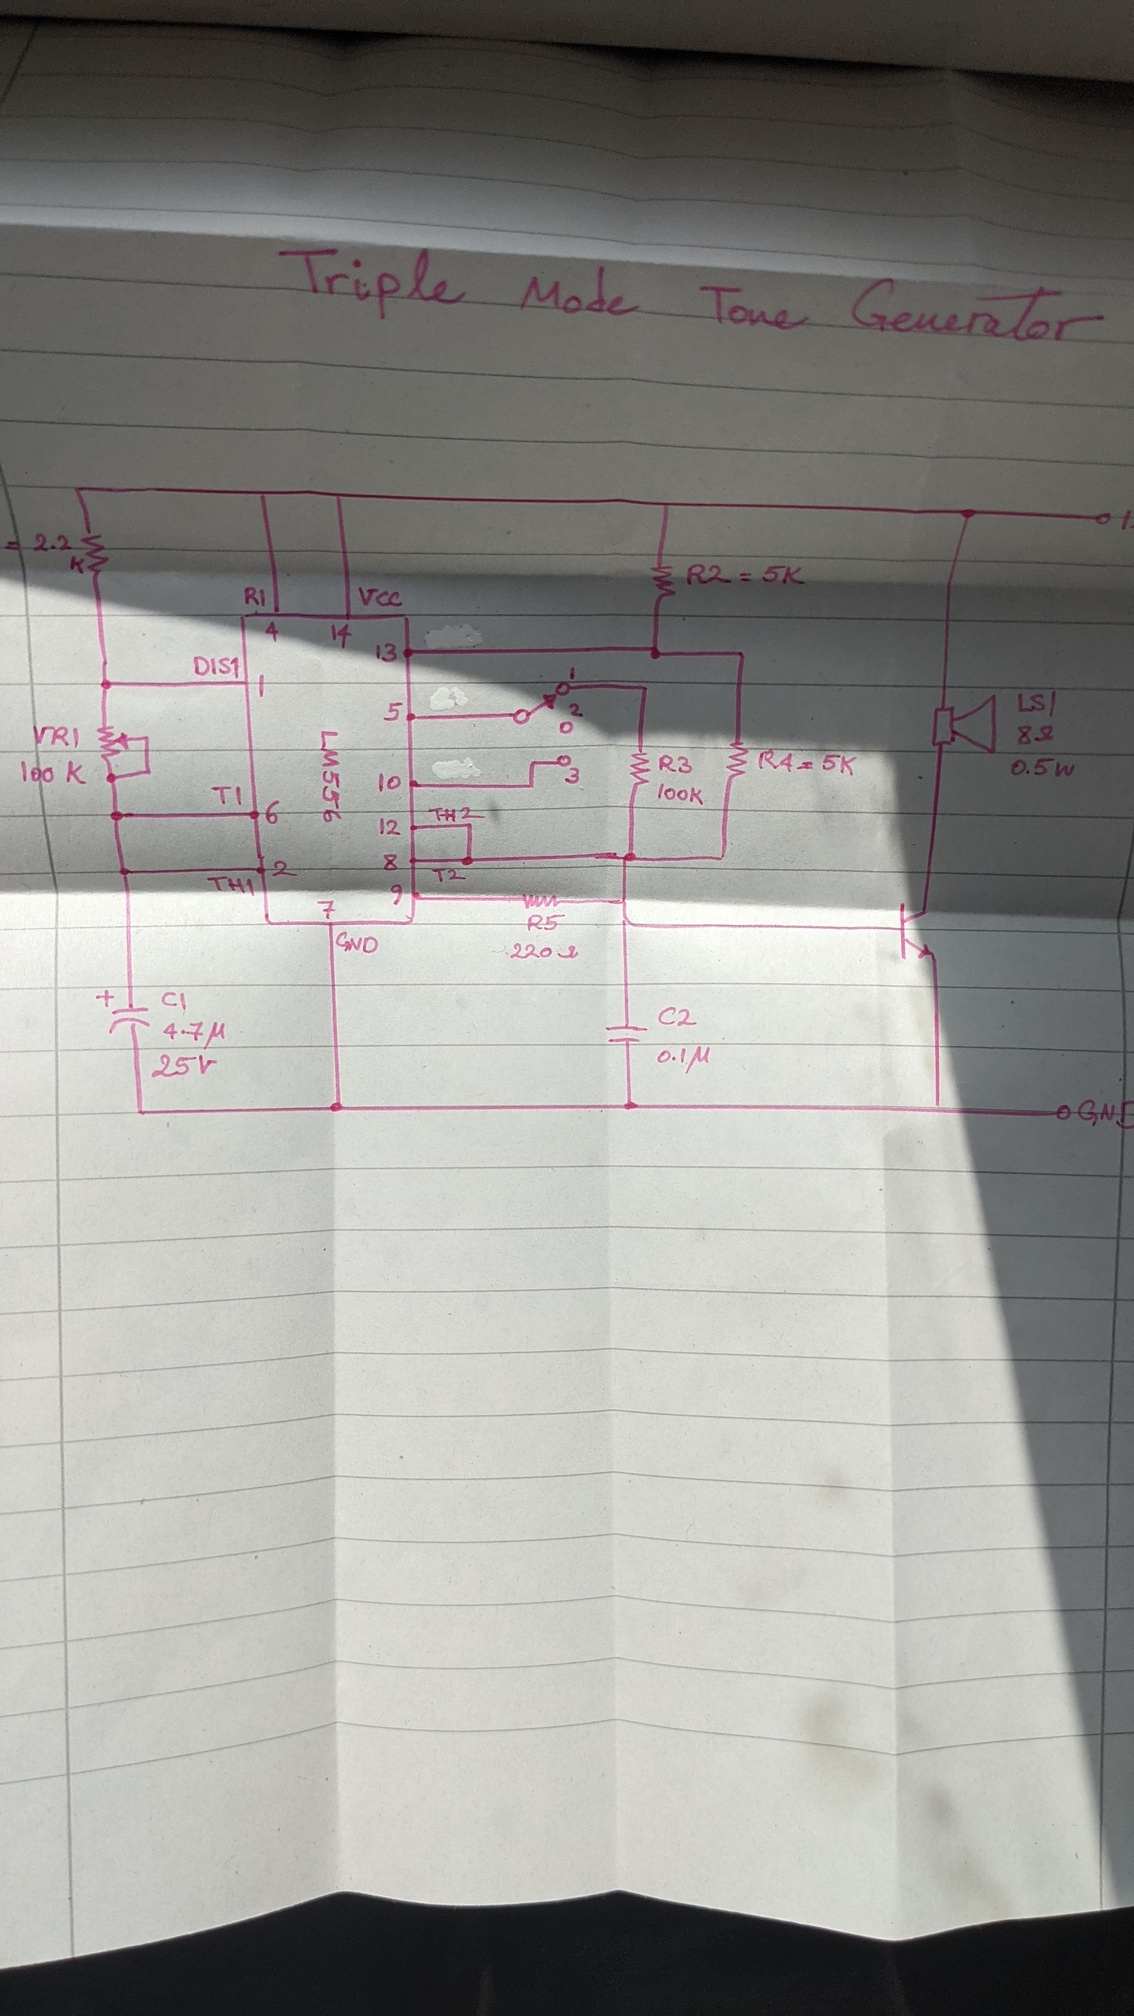capacitor.polarized: (94, 987, 154, 1036)
capacitor.unpolarized: (604, 1020, 651, 1048)
integrated_circuit: (238, 609, 424, 929)
junction: (955, 505, 980, 521), (618, 849, 640, 865), (647, 642, 665, 660), (328, 1099, 348, 1115), (100, 676, 116, 692), (930, 1099, 946, 1117), (109, 809, 127, 824), (105, 768, 120, 785), (622, 1098, 640, 1112), (116, 865, 136, 878), (460, 854, 476, 868), (620, 915, 636, 929), (140, 730, 156, 742), (638, 681, 654, 694), (659, 498, 676, 510), (136, 1106, 150, 1119), (735, 647, 749, 659), (143, 766, 156, 777), (332, 489, 346, 500), (716, 852, 730, 863), (618, 894, 631, 906), (462, 821, 476, 832), (256, 487, 269, 498), (525, 780, 537, 791), (528, 757, 540, 768), (72, 485, 84, 494)
resistor: (78, 529, 111, 577), (648, 564, 678, 600), (726, 739, 750, 782), (629, 749, 652, 788), (519, 892, 564, 908)
resistor.adjustable: (96, 723, 132, 762)
speaker: (929, 691, 1001, 757)
switch: (511, 681, 575, 737)
terminal: (1051, 1101, 1073, 1122), (1092, 510, 1115, 528), (554, 753, 575, 768)
text: (276, 244, 1109, 348), (4, 532, 84, 575), (684, 561, 809, 587), (756, 748, 860, 777), (318, 728, 343, 827), (1074, 1097, 1134, 1133), (161, 1019, 228, 1050), (19, 757, 89, 786), (150, 1052, 220, 1080), (1009, 755, 1077, 781), (655, 1044, 712, 1074), (508, 942, 580, 961), (32, 723, 83, 749), (655, 782, 706, 807), (1015, 690, 1058, 719), (191, 654, 241, 678), (334, 929, 381, 955), (206, 874, 259, 897), (356, 584, 404, 609), (1015, 721, 1059, 746), (656, 1005, 701, 1029), (426, 806, 487, 822), (210, 784, 246, 809), (656, 753, 695, 775), (525, 912, 566, 932), (330, 622, 354, 649), (159, 990, 188, 1014), (269, 858, 300, 879), (242, 584, 269, 609), (377, 816, 404, 839), (372, 641, 400, 665), (431, 865, 467, 883), (377, 770, 402, 793), (263, 798, 282, 827), (382, 701, 404, 723), (263, 619, 282, 644), (388, 882, 404, 908), (316, 899, 336, 919), (1117, 507, 1134, 532), (564, 766, 583, 786), (255, 672, 269, 699), (382, 852, 400, 872), (568, 701, 584, 719), (568, 665, 579, 681)
transistor: (897, 900, 944, 962)
